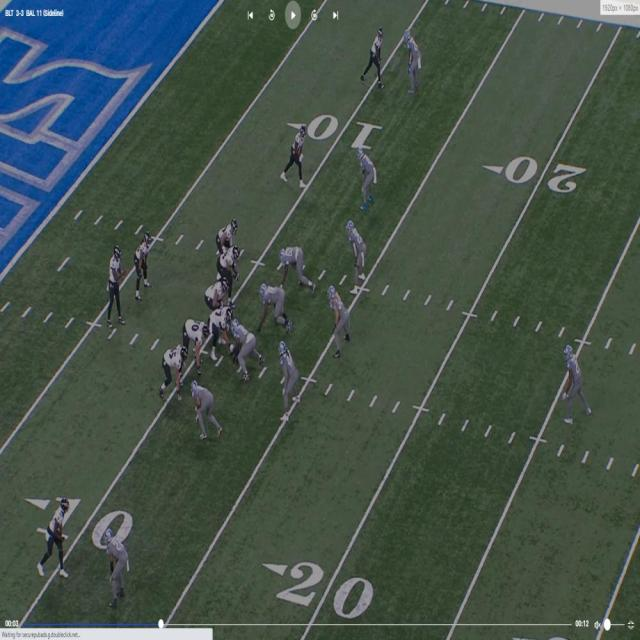center: (218, 302, 234, 343)
db: (562, 341, 592, 424), (110, 516, 133, 598), (404, 32, 422, 90), (358, 148, 376, 205)
lb: (325, 282, 349, 354), (346, 222, 369, 292), (278, 344, 297, 414)
qb: (108, 247, 122, 318)
skill: (42, 500, 70, 572), (286, 127, 310, 182), (136, 235, 154, 292), (367, 32, 386, 84), (219, 219, 240, 246)
